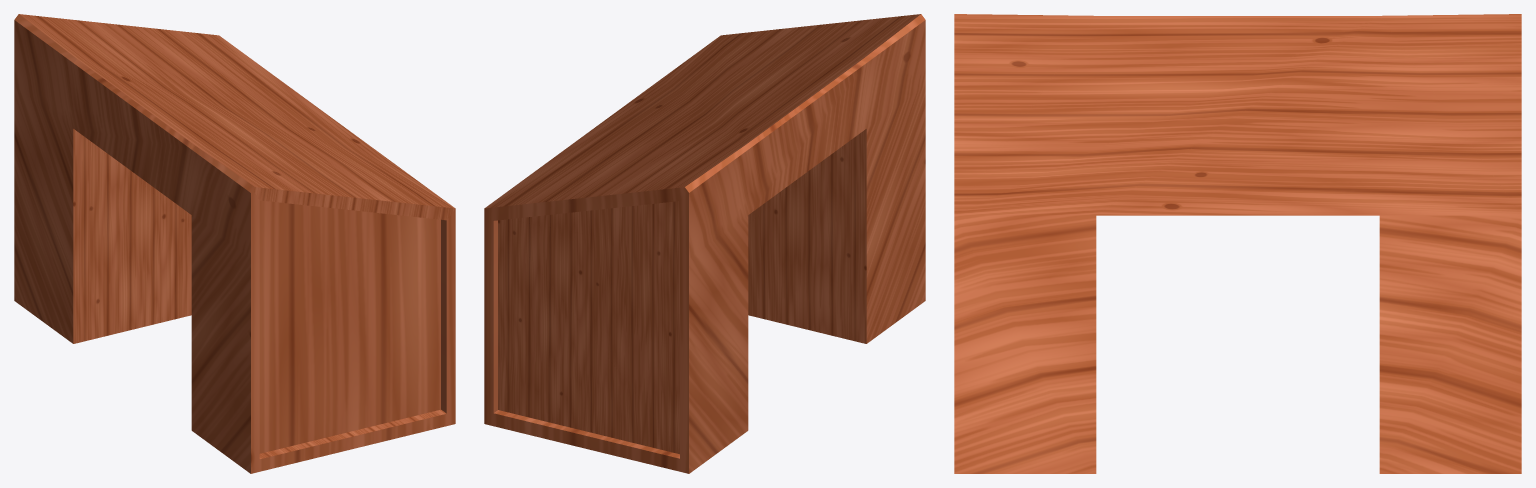
File: alter.glb
3 views of the same model, side by side, from view 1: azimuth 30°, elevation 25°; view 2: azimuth 150°, elevation 25°; view 3: azimuth 270°, elevation 25° (orthographic). The views are drawn at different scales.
Parts seen in each view (by area): view 1: Cube; view 2: Cube; view 3: Cube.
Part boxes in pixels (x1,y1,x2,y2): Cube: (14, 14, 455, 473); Cube: (484, 14, 925, 473); Cube: (954, 14, 1521, 473).
Size of the model in its own units: 0.9 by 1.2 by 1.8.
1 material, 1 textured.
